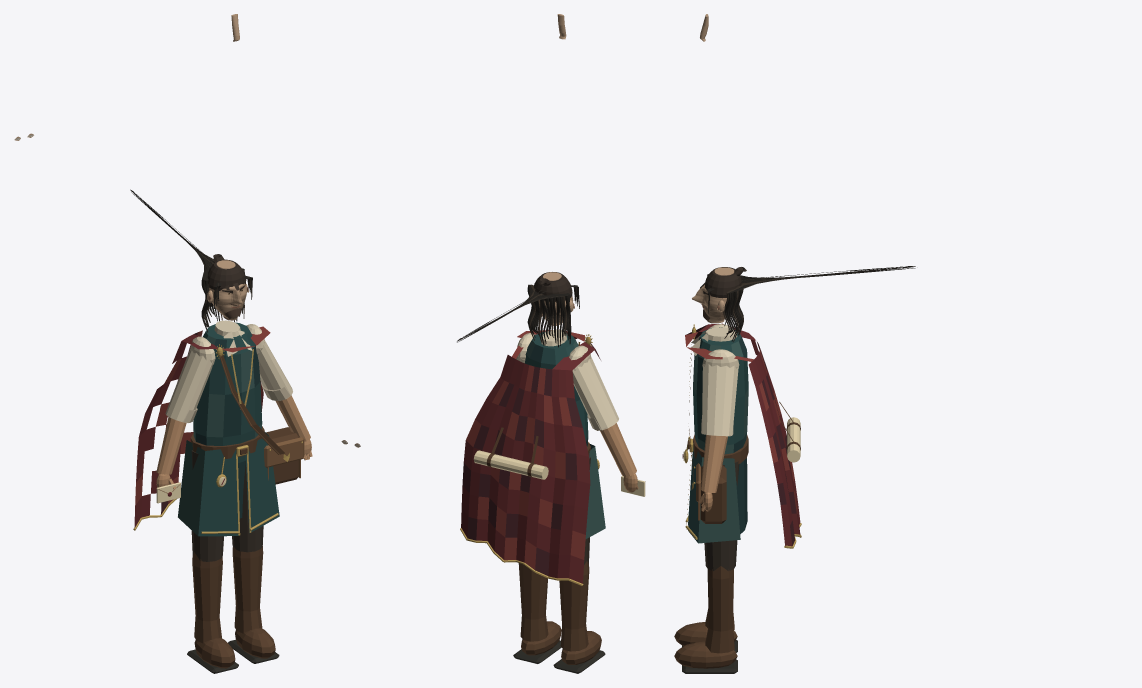
Rendered from courier.glb.
3 views of the same model, side by side, from view 1: azimuth 30°, elevation 25°; view 2: azimuth 150°, elevation 25°; view 3: azimuth 270°, elevation 25° (orthographic).
Parts seen in each view (by area): view 1: Waistcoat, Split_coat_R, Cloak_folds, Boot_shaft_R, Boot_shaft_L, Split_coat_L, Linen_sleeve_R, Forearm_R, Trouser_thigh_L, Linen_sleeve_L, Boot_toe_L, Boot_toe_R (+8 smaller); view 2: Cloak_folds, Boot_shaft_R, Boot_shaft_L, Linen_sleeve_R, Waistcoat, Split_coat_R, Map_roll, Forearm_R, Boot_toe_L, Boot_toe_R, Hair_target_top; view 3: Cloak_folds, Waistcoat, Linen_sleeve_L, Split_coat_L, Boot_shaft_L, Boot_toe_L, Forearm_L, Trouser_thigh_L, Messenger_satchel, Face, Hair_target_top, Back_coat.
Boxes of the visible parts, x1,y1,x2,y2 form: Waistcoat: [193, 322, 262, 462]; Split_coat_R: [178, 440, 238, 536]; Cloak_folds: [134, 326, 270, 527]; Boot_shaft_R: [192, 552, 222, 643]; Boot_shaft_L: [232, 545, 263, 633]; Split_coat_L: [245, 432, 279, 533]; Linen_sleeve_R: [165, 348, 213, 422]; Forearm_R: [156, 417, 186, 474]; Trouser_thigh_L: [232, 461, 263, 552]; Linen_sleeve_L: [257, 340, 292, 400]; Boot_toe_L: [235, 628, 275, 658]; Boot_toe_R: [194, 638, 235, 668]; Cloak_folds: [461, 330, 600, 583]; Boot_shaft_R: [559, 561, 589, 651]; Boot_shaft_L: [518, 563, 548, 641]; Linen_sleeve_R: [572, 356, 618, 430]; Waistcoat: [524, 331, 588, 446]; Split_coat_R: [585, 443, 605, 538]; Map_roll: [473, 450, 548, 479]; Forearm_R: [600, 423, 636, 476]; Boot_toe_L: [521, 621, 561, 655]; Boot_toe_R: [561, 631, 601, 664]; Hair_target_top: [534, 272, 572, 301]; Cloak_folds: [685, 323, 800, 546]; Waistcoat: [693, 327, 748, 454]; Linen_sleeve_L: [702, 364, 738, 436]; Split_coat_L: [688, 444, 740, 543]; Boot_shaft_L: [705, 566, 734, 653]; Boot_toe_L: [674, 641, 737, 668]; Forearm_L: [701, 435, 727, 492]; Trouser_thigh_L: [704, 461, 739, 571]; Messenger_satchel: [700, 465, 726, 523]; Face: [692, 267, 734, 323]; Hair_target_top: [704, 267, 741, 298]; Back_coat: [736, 458, 747, 533].
Size of the model in its own units: 0.7395 by 2.87 by 1.83.
